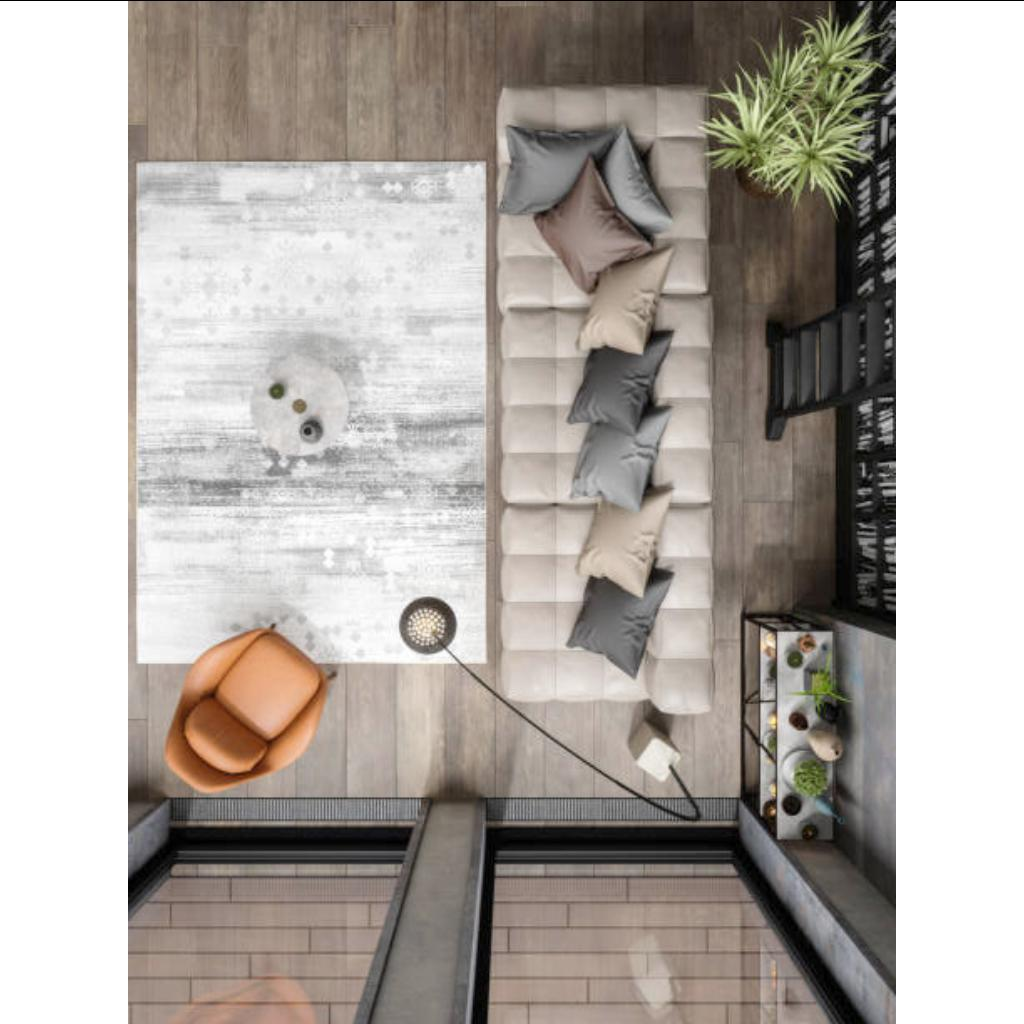bookshelf: (834, 0, 892, 622)
chair: (162, 617, 336, 803)
coffee table: (251, 358, 349, 458)
floor lamp: (632, 727, 688, 781)
floor plant: (736, 106, 806, 186)
rug: (133, 158, 487, 664)
shelves: (758, 630, 890, 840)
sofa: (498, 80, 714, 714)
window: (485, 1002, 833, 1024), (130, 1004, 358, 1022)
